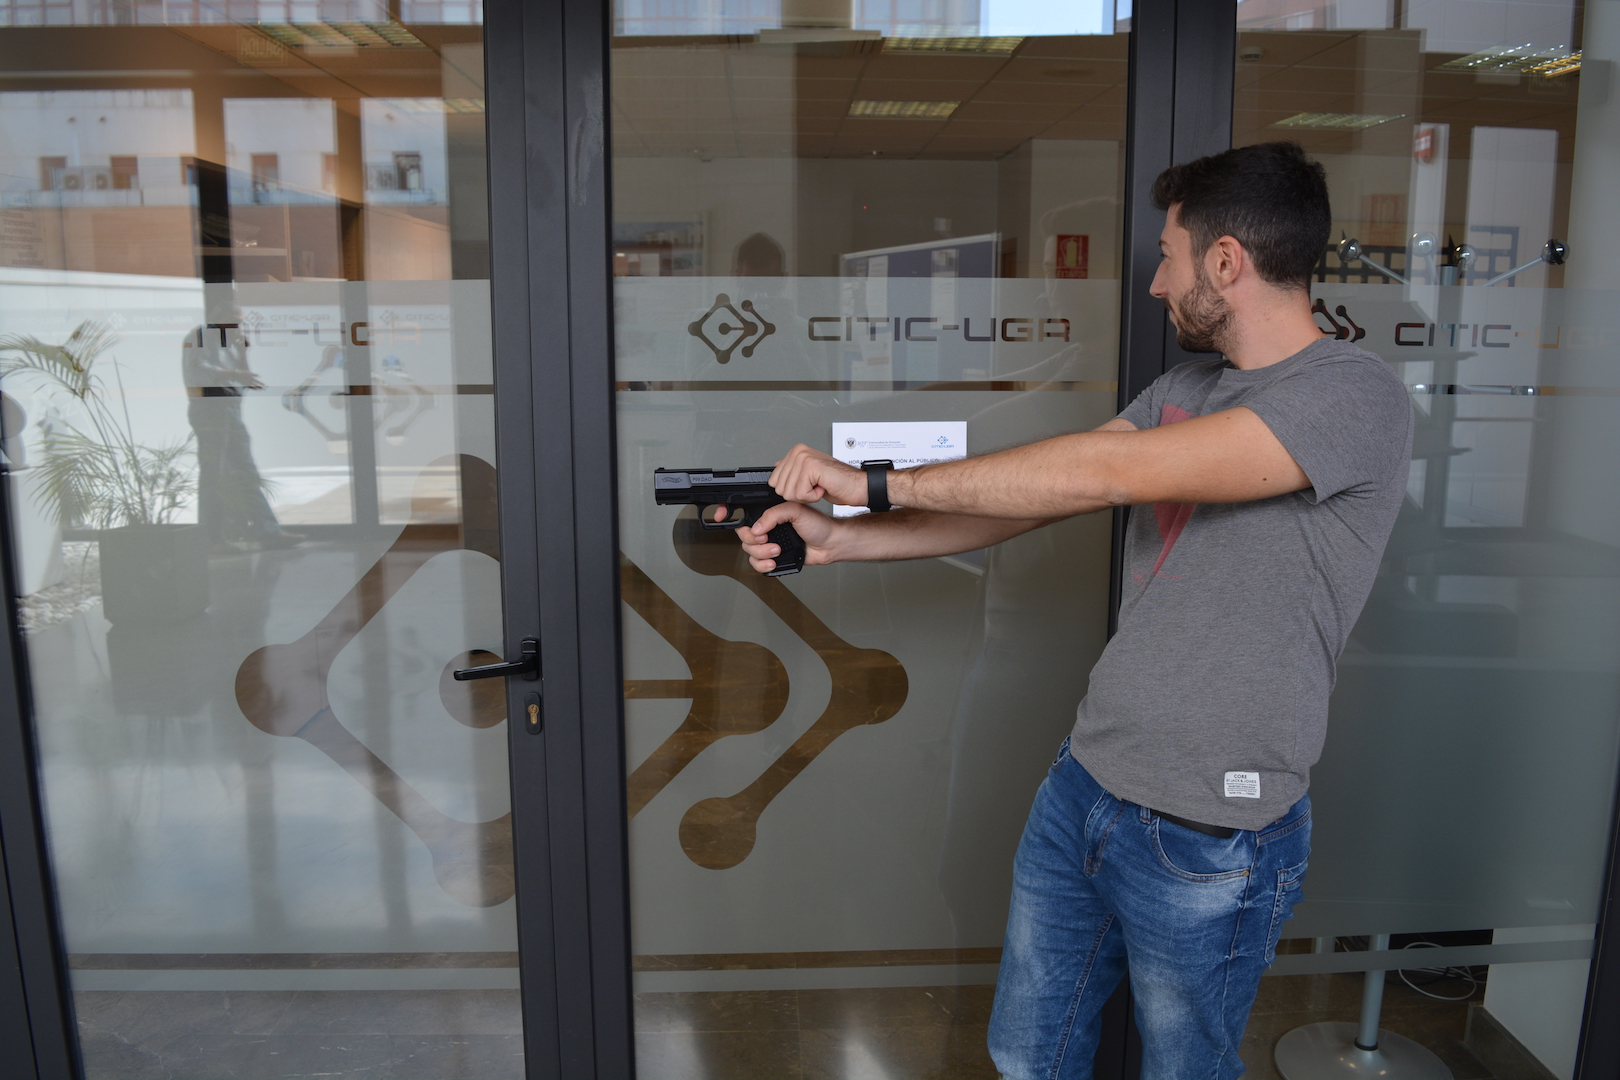pistol: (655, 466, 808, 577)
